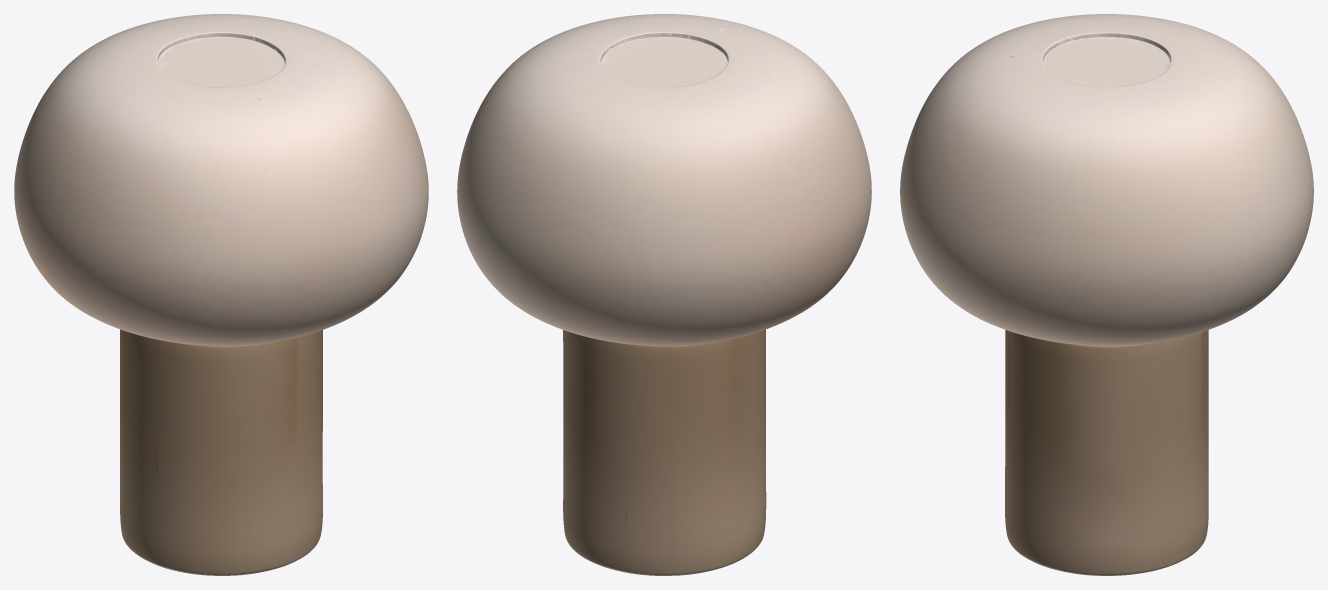
File: mushroom_lamp.glb
The picture shows the model from 3 angles, left to right: view 1: azimuth 30°, elevation 25°; view 2: azimuth 150°, elevation 25°; view 3: azimuth 270°, elevation 25°; orthographic projection.
Parts seen in each view (by area): view 1: node_0; view 2: node_0; view 3: node_0.
Part boxes in pixels (x1,y1,x2,y2): node_0: [14, 14, 428, 575]; node_0: [457, 14, 871, 575]; node_0: [900, 14, 1313, 575].
Size of the model in its own units: 0.873 by 1.11 by 0.8705.
1 material, 1 textured.
